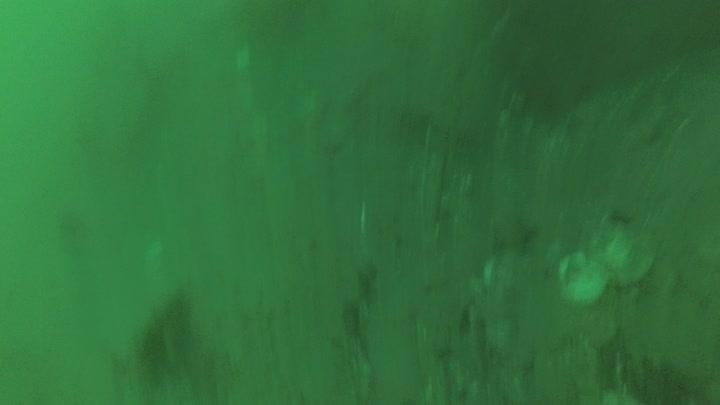starfish: (498, 217, 538, 254)
